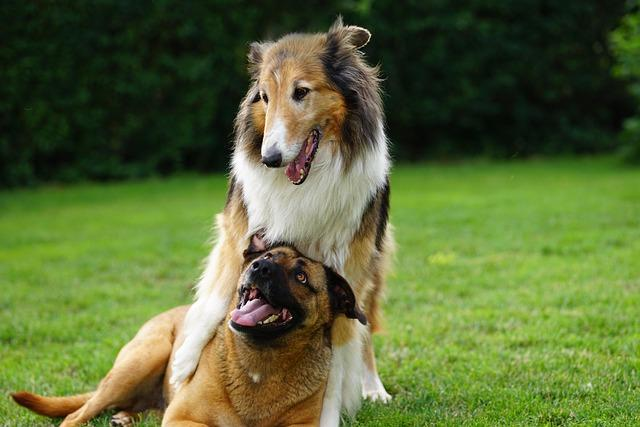Non_Gorille: (108, 10, 456, 427)
